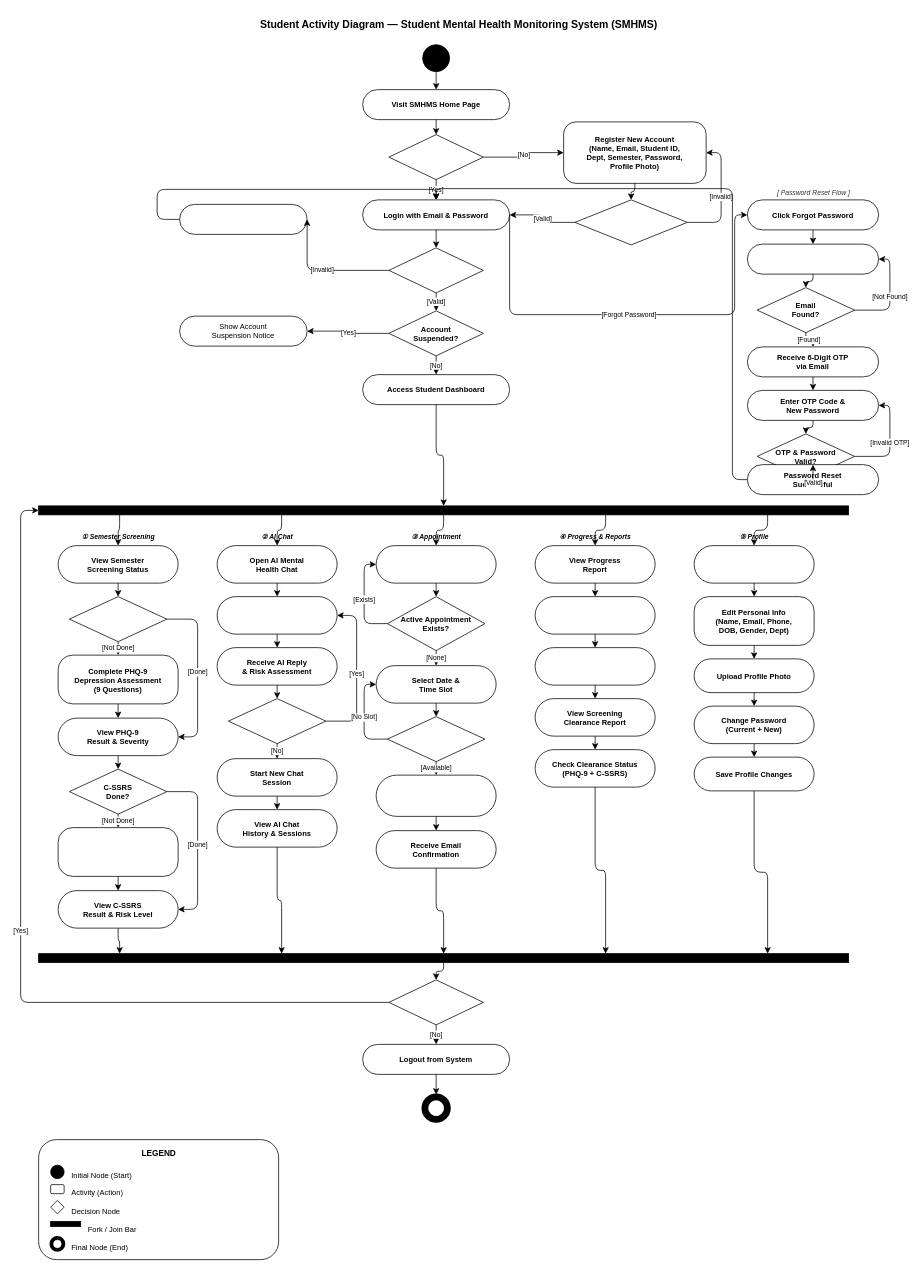
Image size: 922x1273. Some labels were removed from this diagram. Here are the shapes that lost their labels. From the top down, the centre of each, then its label:
At pixel 435 157: "Has Account?".
At pixel 243 219: "Show Error Message".
At pixel 630 222: "Validation OK?".
At pixel 435 270: "Credentials Valid?".
At pixel 813 258: "Enter Registered Email Address".
At pixel 435 564: "View Appointment Page".
At pixel 753 564: "View Profile".
At pixel 118 619: "PHQ-9 Done?".
At pixel 276 615: "Send Message to AI Companion".
At pixel 594 615: "View Counseling Session History".
At pixel 594 666: "View Observation Report Details".
At pixel 277 721: "Continue Chat?".
At pixel 436 739: "Slot Available?".
At pixel 435 795: "Appointment Confirmed with Psychologist".
At pixel 117 851: "Complete C-SSRS Suicide Risk Assessment (6 Questions)".
At pixel 435 1002: "Continue Using System?".
